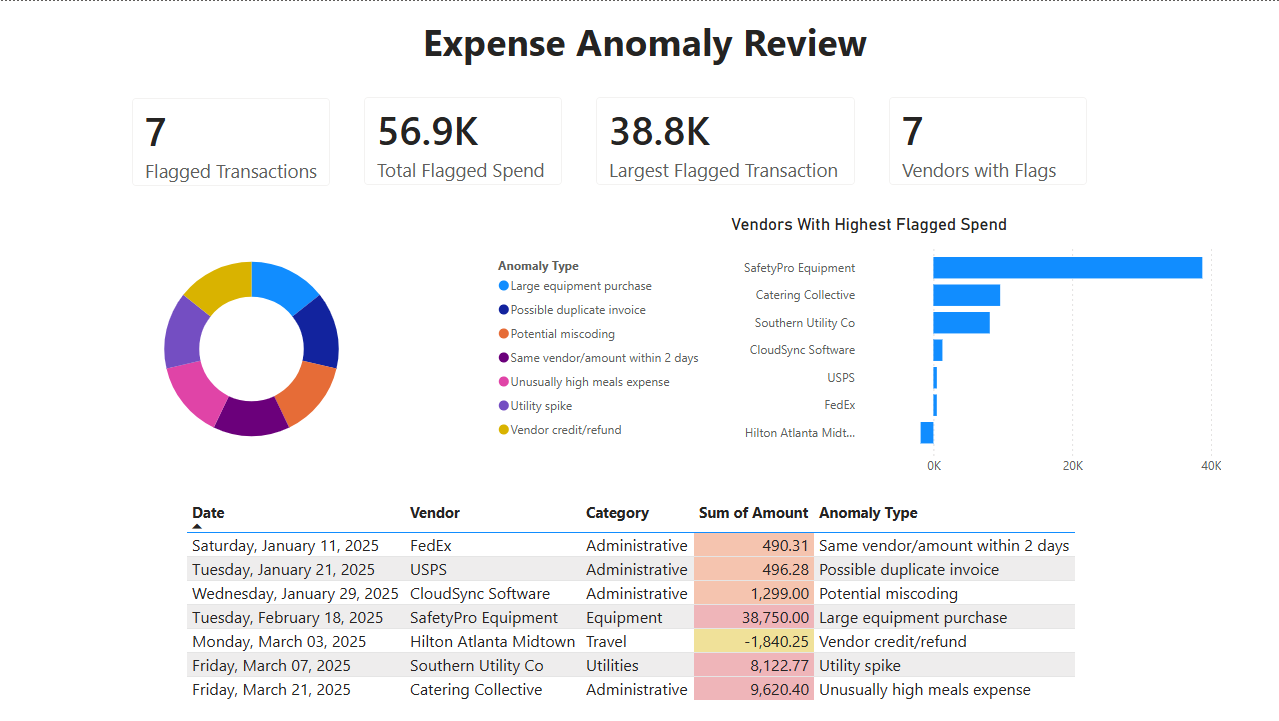

The page's visual inventory and layout, read from the dashboard file:
{"tool":"powerbi","page":{"name":"Page 2","canvas":[1280,720],"ordinal":1},"visuals":[{"type":"textbox","box":[10,0,280,280],"z":0},{"type":"textbox","box":[9.5,9.5,1270.5,70.2],"z":1},{"type":"cardVisual","fields":{"Data":["APTransactionsTable.Flagged Transactions"]},"box":[115.4,79.7,232,122.5],"z":2},{"type":"cardVisual","fields":{"Data":["APTransactionsTable.Total Flagged Spend"]},"box":[347.4,78.5,232,122.5],"z":3},{"type":"cardVisual","fields":{"Data":["APTransactionsTable.Largest Flagged Transaction"]},"box":[579.3,78.5,292.6,122.5],"z":4},{"type":"cardVisual","fields":{"Data":["APTransactionsTable.Vendors with Flags"]},"box":[872,78.5,232,122.5],"z":5},{"type":"donutChart","fields":{"Category":["APTransactionsTable.Anomaly_Type"],"Y":["APTransactionsTable.Flagged Transactions"]},"box":[0,234.3,712.6,227.2],"z":6},{"type":"clusteredBarChart","title":"Vendors With Highest Flagged Spend","fields":{"Category":["APTransactionsTable.Vendor"],"Y":["Sum(APTransactionsTable.Amount)"]},"box":[725.7,212.9,500.8,270],"z":7},{"type":"tableEx","fields":{"Values":["APTransactionsTable.Date","APTransactionsTable.Vendor","APTransactionsTable.Category","Sum(APTransactionsTable.Amount)","APTransactionsTable.Anomaly_Type"]},"box":[180.8,494.9,927.9,214.1],"z":8}]}

Visuals, with their boxes in screenshot pixels (x1, y1, x2, y2), scaled from the page's 1280x720 canvas onto the 1279x721 screenshot:
textbox: (left=10, top=0, right=290, bottom=280)
textbox: (left=9, top=10, right=1278, bottom=80)
cardVisual - APTransactionsTable.Flagged Transactions: (left=115, top=80, right=347, bottom=202)
cardVisual - APTransactionsTable.Total Flagged Spend: (left=347, top=79, right=579, bottom=201)
cardVisual - APTransactionsTable.Largest Flagged Transaction: (left=579, top=79, right=871, bottom=201)
cardVisual - APTransactionsTable.Vendors with Flags: (left=871, top=79, right=1103, bottom=201)
donutChart - APTransactionsTable.Anomaly_Type x APTransactionsTable.Flagged Transactions: (left=0, top=235, right=712, bottom=462)
"Vendors With Highest Flagged Spend" clusteredBarChart: (left=725, top=213, right=1226, bottom=484)
tableEx - APTransactionsTable.Date x APTransactionsTable.Vendor: (left=181, top=496, right=1108, bottom=710)
